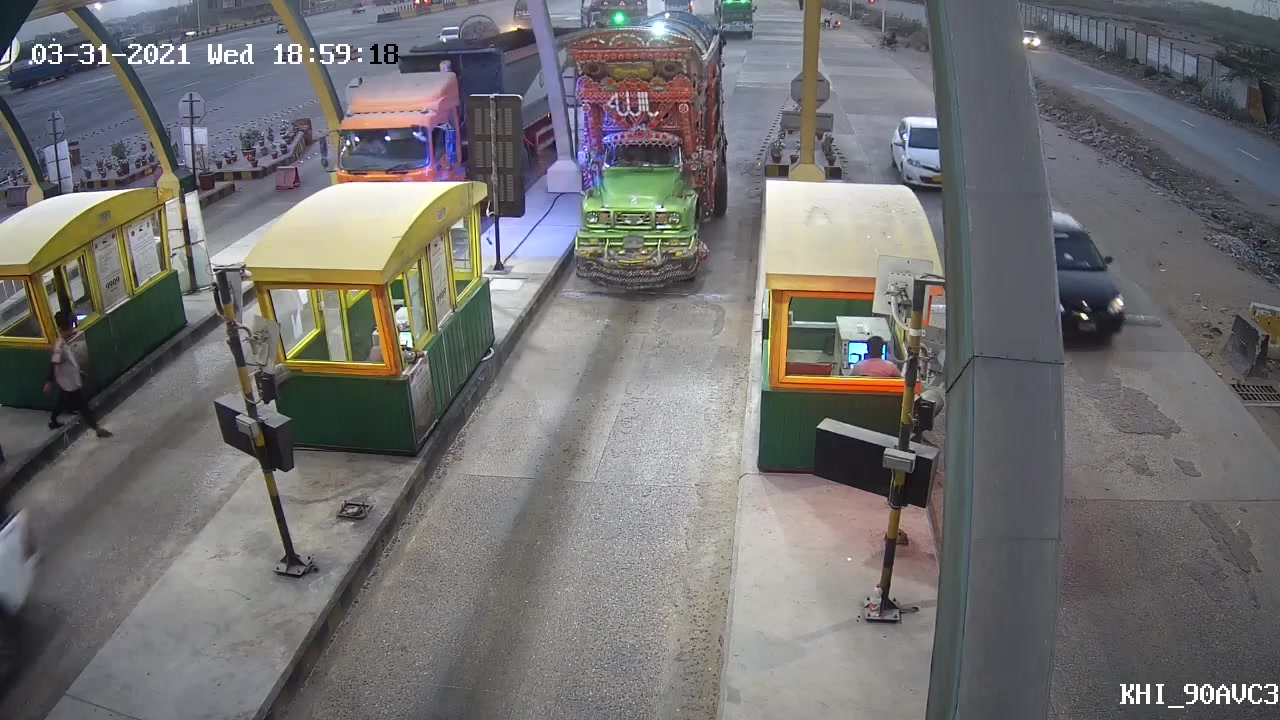F5: (556, 18, 736, 298)
